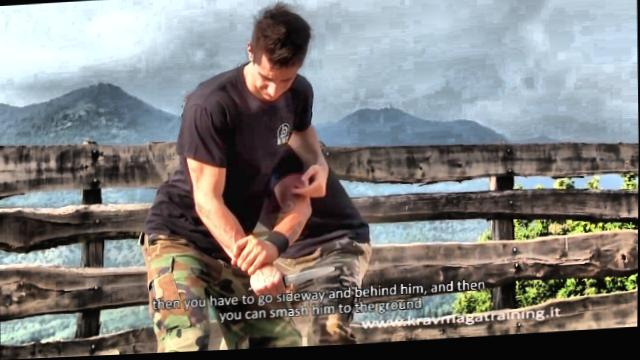knife: (245, 261, 343, 301)
